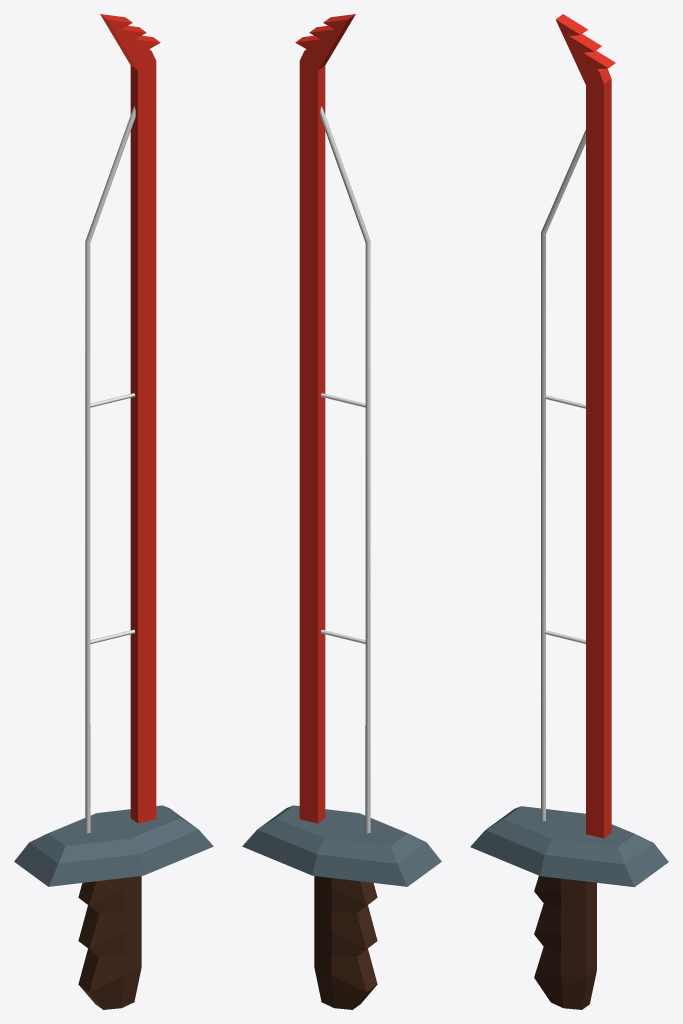
The model's file is sword.glb.
3 views of the same model, side by side, from view 1: azimuth 30°, elevation 25°; view 2: azimuth 150°, elevation 25°; view 3: azimuth 330°, elevation 25° (orthographic).
Parts seen in each view (by area): view 1: SwordSupport, SwordGuard, SwordHandle, SwordWireBlade; view 2: SwordSupport, SwordGuard, SwordHandle, SwordWireBlade; view 3: SwordSupport, SwordGuard, SwordHandle, SwordWireBlade.
Part boxes in pixels (<box>): SwordSupport: <box>100,14,160,823</box>; SwordGuard: <box>14,805,213,886</box>; SwordHandle: <box>78,876,141,1009</box>; SwordWireBlade: <box>85,106,135,833</box>; SwordSupport: <box>295,14,355,823</box>; SwordGuard: <box>242,805,441,886</box>; SwordHandle: <box>314,876,377,1009</box>; SwordWireBlade: <box>320,106,370,833</box>; SwordSupport: <box>555,14,615,838</box>; SwordGuard: <box>470,806,668,887</box>; SwordHandle: <box>534,876,596,1009</box>; SwordWireBlade: <box>541,129,585,821</box>.
Bounding box in the file's own units: 6.54 × 37.35 × 4.04.
